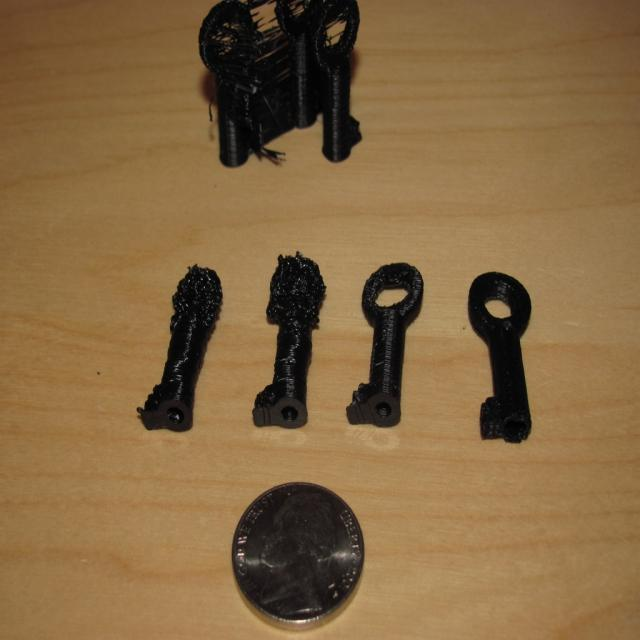Coin: (232, 479, 362, 631)
